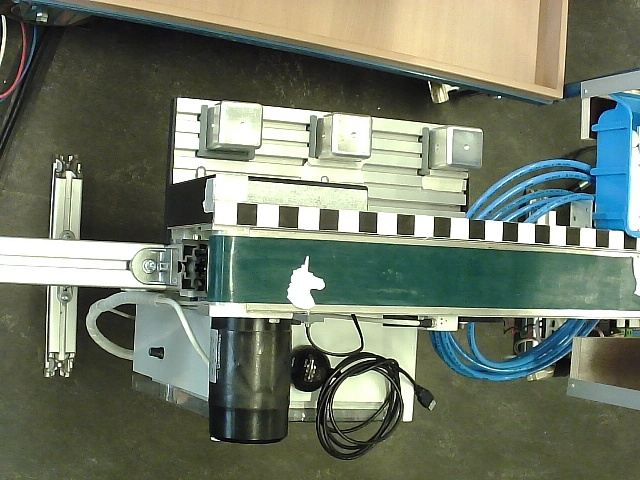unicorn: (284, 254, 326, 311)
